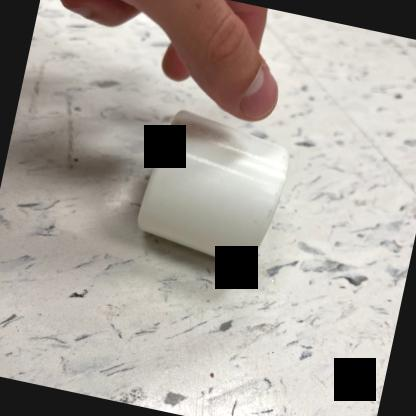white cylinder: (128, 105, 299, 280)
